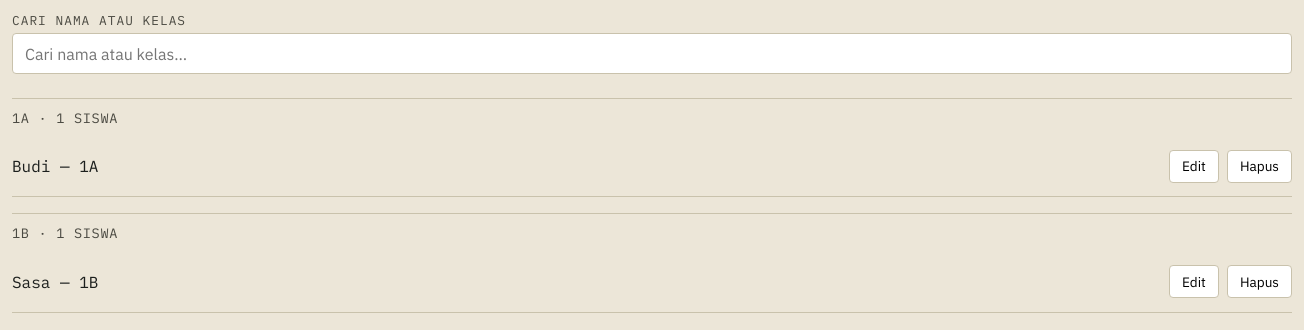
Test: StudentList › filters students by name or class as the search query changes
Type "1a" into the field labelled "Cari nama atau kelas" at {"x": 652, "y": 54}, box [12, 33, 1292, 74]
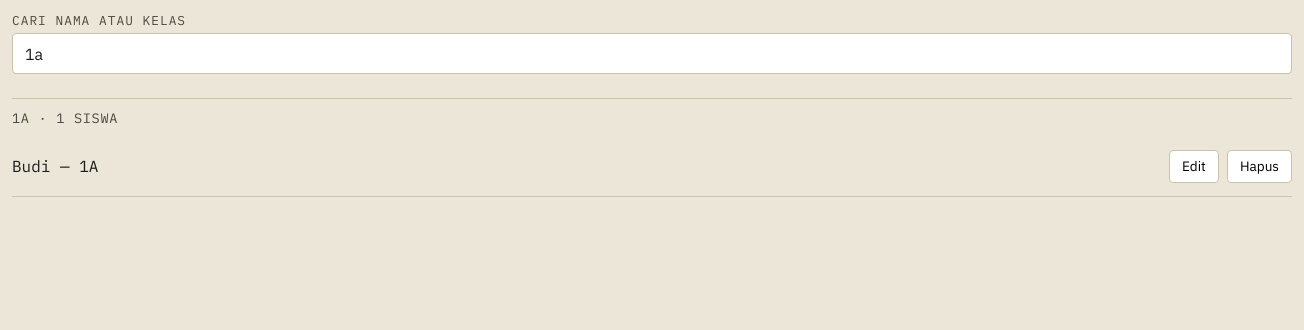
Expected: the text "Budi — 1A" is shown, [12, 156, 98, 176]
Now the text "Sasa — 1B" is gone
